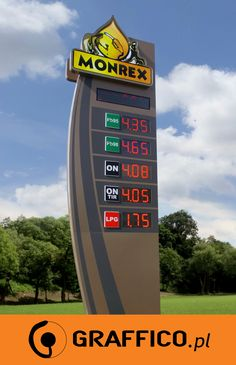LPG: (102, 207, 121, 229)
ON: (102, 158, 119, 178), (102, 185, 120, 202)
